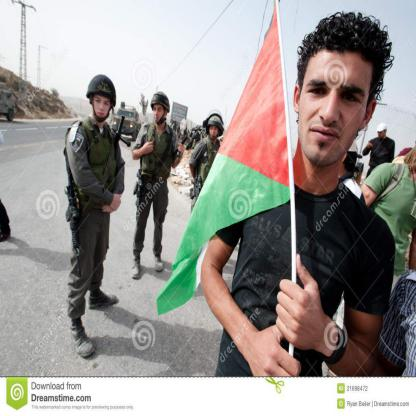face: (299, 56, 373, 167), (94, 94, 111, 119), (154, 103, 166, 123), (210, 126, 220, 138), (378, 130, 385, 139)
